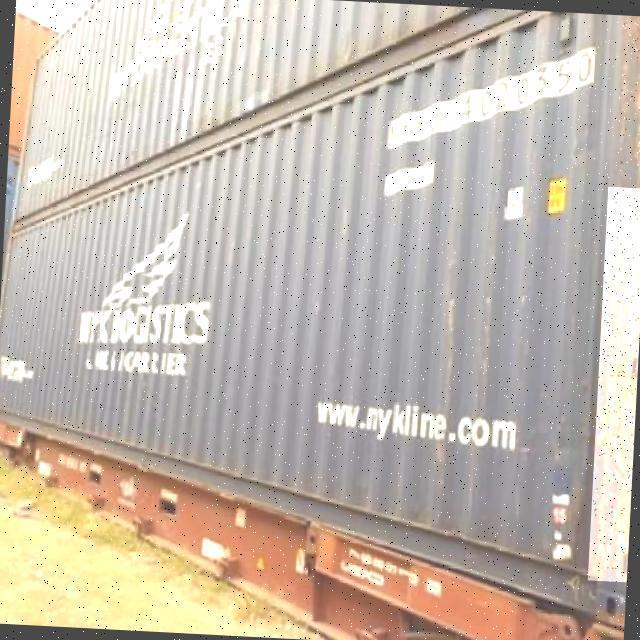rust: (588, 187, 640, 583), (616, 16, 640, 167)
